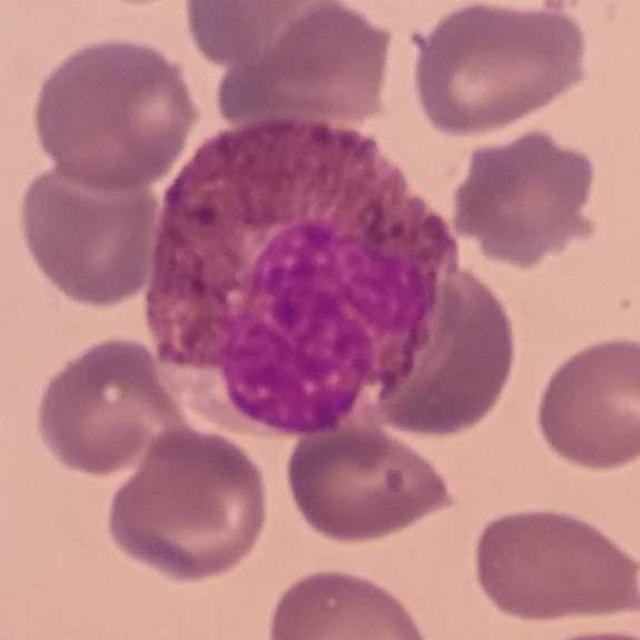Eosinophil: (121, 97, 482, 451)
RBC: (365, 258, 522, 443), (26, 31, 202, 194), (101, 422, 276, 585), (407, 0, 596, 139), (208, 0, 399, 130), (13, 154, 166, 310), (283, 418, 462, 548), (446, 125, 604, 269), (29, 333, 181, 480), (467, 501, 639, 627), (530, 331, 640, 475), (262, 562, 438, 640), (180, 0, 354, 76)
